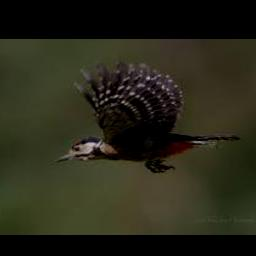Woodpecker: (50, 62, 239, 172)
